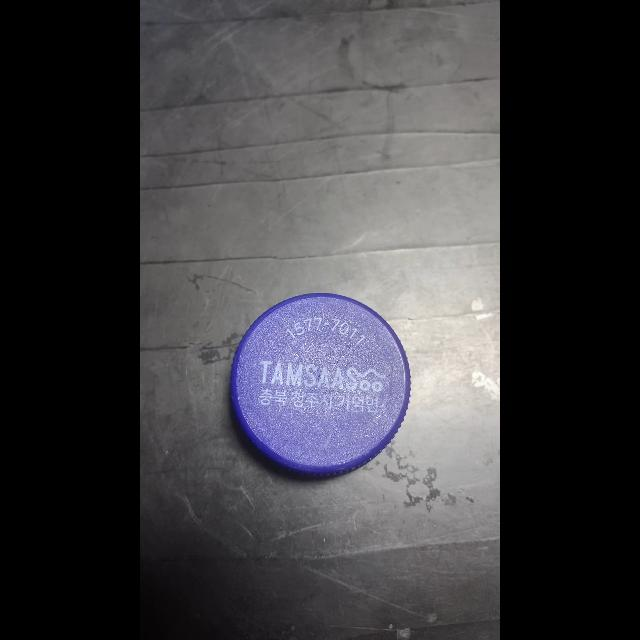plastic_bottle_cap: (228, 288, 414, 482)
